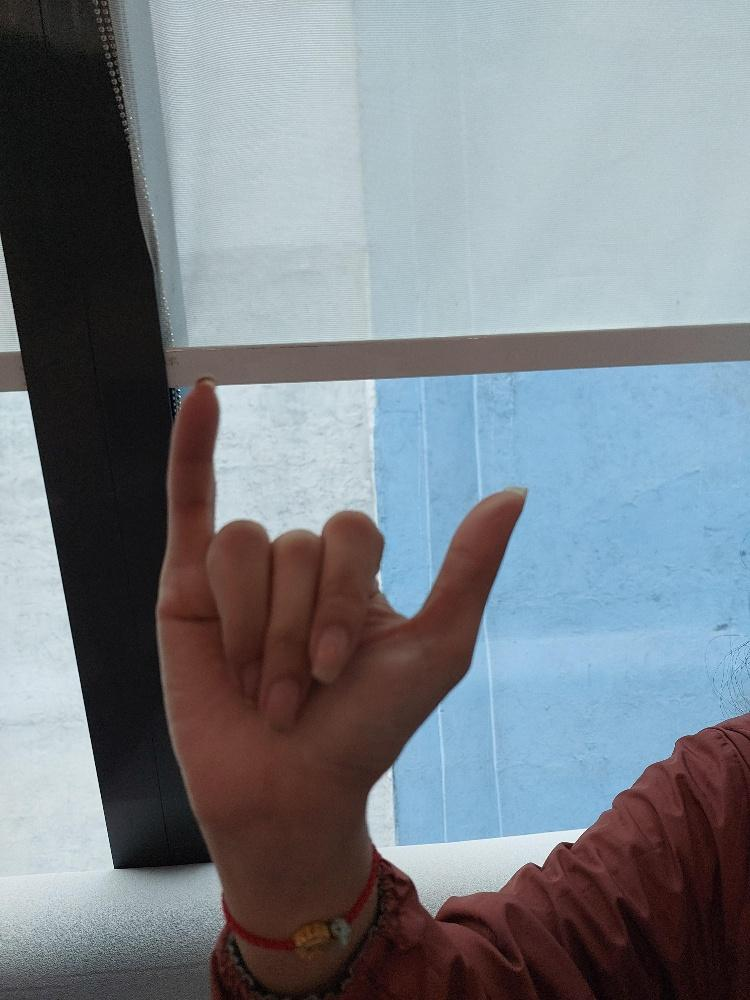y: (151, 376, 526, 836)
